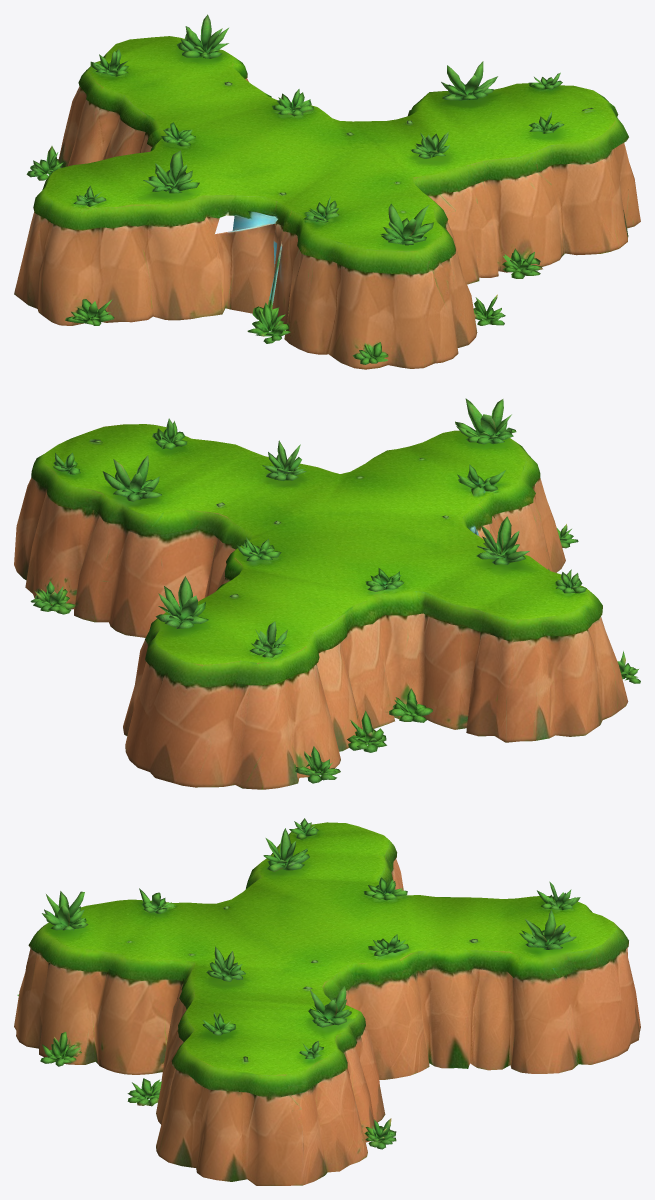
The model's file is s2_r1c4_branching_cove_terrain.glb.
The picture shows the model from 3 angles, top to bottom: view 1: azimuth 30°, elevation 25°; view 2: azimuth 150°, elevation 25°; view 3: azimuth 270°, elevation 25°; orthographic projection. The views are drawn at different scales.
Size of the model in its own units: 1 by 0.2376 by 0.9789.
1 material, 1 textured.
